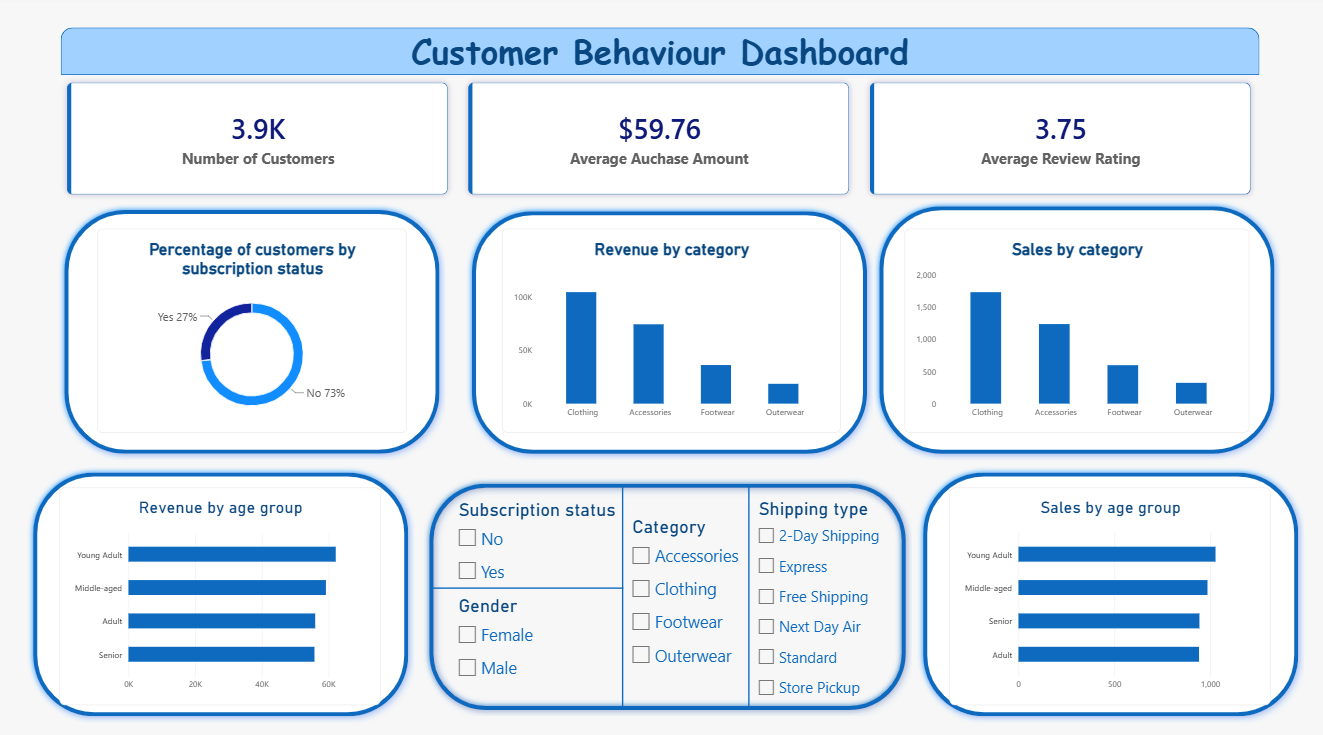

The dashboard page shown, as its layout file describes it:
{"tool":"powerbi","page":{"name":"Page 1","canvas":[1920,1080],"ordinal":0},"visuals":[{"type":"cardVisual","fields":{"Data":["public customer.number of customers","public customer.average puchase amount","public customer.average review rating"]},"box":[90.5,115.8,1735.5,184.6],"z":0},{"type":"shape","box":[92.3,47.1,1735.5,68.8],"z":1000},{"type":"textbox","box":[92.3,47.1,1735.5,68.8],"z":2000},{"type":"shape","box":[88.7,302.2,561,371],"z":3000},{"type":"donutChart","title":"Percentage of customers by subscription status","fields":{"Category":["public customer.subscription_status"],"Y":["CountNonNull(public customer.customer_id)"]},"box":[144.8,338.4,448.8,295],"z":4000},{"type":"shape","box":[678.6,304,589.9,369.2],"z":5000},{"type":"shape","box":[1268.6,296.8,589.9,376.4],"z":6000},{"type":"clusteredColumnChart","title":"Revenue by category","fields":{"Y":["Sum(public customer.purchase_amount)"],"Category":["public customer.category"]},"box":[731.1,338.4,490.4,295],"z":7000},{"type":"clusteredColumnChart","title":"Sales by category","fields":{"Category":["public customer.category"],"Y":["CountNonNull(public customer.customer_id)"]},"box":[1313.8,338.4,499.5,295],"z":8000},{"type":"shape","box":[617.1,698.5,707.6,345.6],"z":9000},{"type":"slicer","fields":{"Values":["public customer.subscription_status"]},"box":[661.3,729.7,257,139.3],"z":10000},{"type":"slicer","fields":{"Values":["public customer.gender"]},"box":[661.3,869,246.1,139.3],"z":11000},{"type":"slicer","fields":{"Values":["public customer.category"]},"box":[912.1,754.6,164.7,231.6],"z":12000},{"type":"slicer","fields":{"Values":["public customer.shipping_type"]},"box":[1095.6,727.8,208.1,316.7],"z":13000},{"type":"shape","box":[43.8,681.5,561,371],"z":14000},{"type":"shape","box":[632.3,847.3,275.1,23.5],"z":15000},{"type":"shape","box":[900.1,709.7,12.7,320.3],"z":16000},{"type":"shape","box":[1082.9,709.7,12.7,320.3],"z":17000},{"type":"clusteredBarChart","title":"Revenue by age group","fields":{"Category":["public customer.age_group"],"Y":["Sum(public customer.purchase_amount)"]},"box":[90.8,712.3,465.1,314.9],"z":18000},{"type":"shape","box":[1332.1,681.4,561,371],"z":18001},{"type":"clusteredBarChart","title":"Sales by age group","fields":{"Category":["public customer.age_group"],"Y":["CountNonNull(public customer.customer_id)"]},"box":[1379.2,712.1,465.1,314.9],"z":18002}]}

Visuals, with their boxes in screenshot pixels (x1, y1, x2, y2), scaled from the page's 1920x1080 canvas onto the 1323x735 screenshot:
cardVisual - public customer.number of customers x public customer.average puchase amount: region(62, 79, 1258, 204)
shape: region(64, 32, 1259, 79)
textbox: region(64, 32, 1259, 79)
shape: region(61, 206, 448, 458)
"Percentage of customers by subscription status" donutChart: region(100, 230, 409, 431)
shape: region(468, 207, 874, 458)
shape: region(874, 202, 1281, 458)
"Revenue by category" clusteredColumnChart: region(504, 230, 842, 431)
"Sales by category" clusteredColumnChart: region(905, 230, 1249, 431)
shape: region(425, 475, 913, 711)
slicer - public customer.subscription_status: region(456, 497, 633, 591)
slicer - public customer.gender: region(456, 591, 625, 686)
slicer - public customer.category: region(628, 514, 742, 671)
slicer - public customer.shipping_type: region(755, 495, 898, 711)
shape: region(30, 464, 417, 716)
shape: region(436, 577, 625, 593)
shape: region(620, 483, 629, 701)
shape: region(746, 483, 755, 701)
"Revenue by age group" clusteredBarChart: region(63, 485, 383, 699)
shape: region(918, 464, 1304, 716)
"Sales by age group" clusteredBarChart: region(950, 485, 1271, 699)
